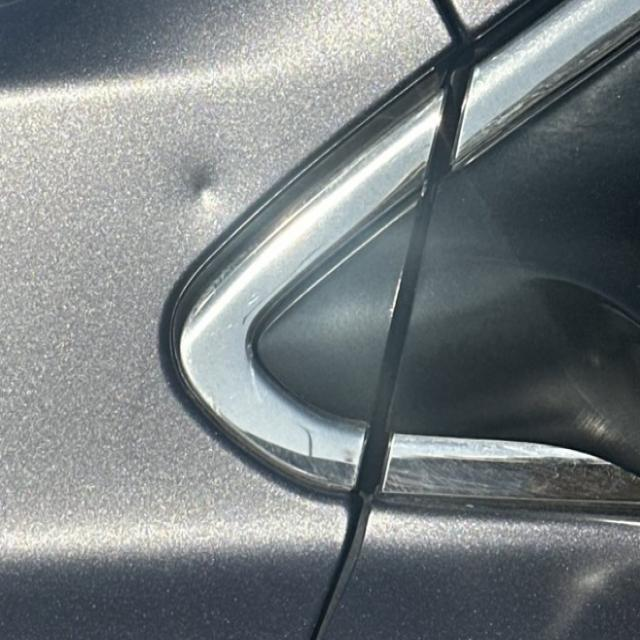dents: (176, 156, 238, 241)
